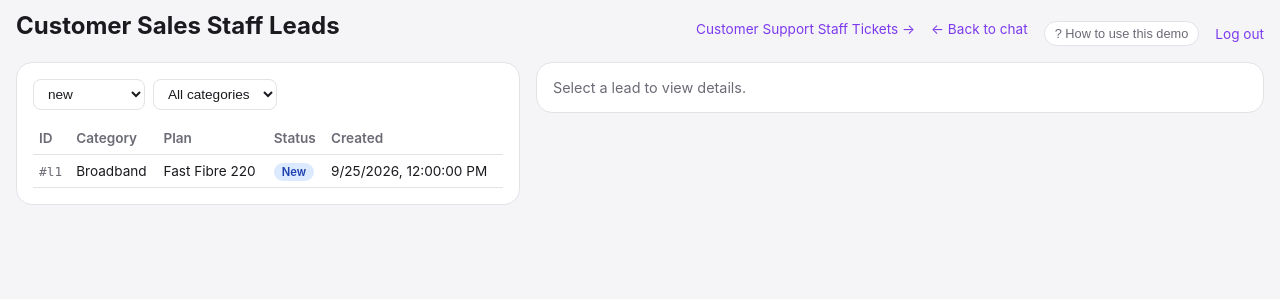
Test: LeadsDashboard › loads and renders the transcript when a row is clicked
The width and height of the screenshot is (1280, 299).
Step 1. Click the text "Broadband" → (268, 171), box [33,154,503,188]
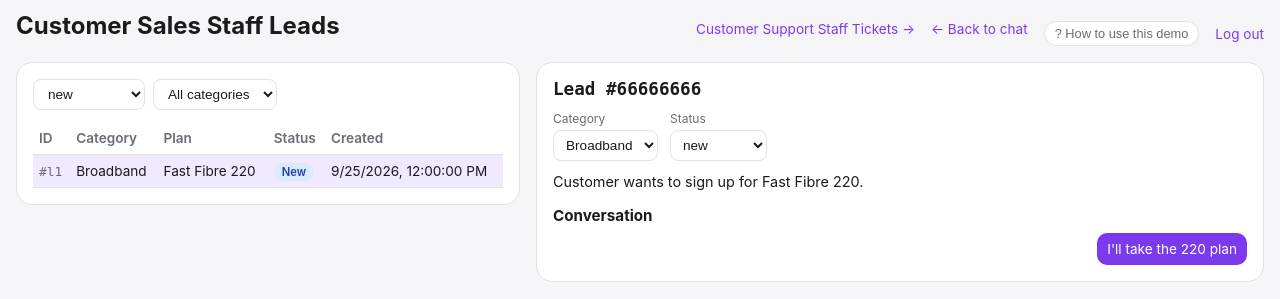
Now the text "I'll take the 220 plan" is shown, box [1097,233,1247,265]
